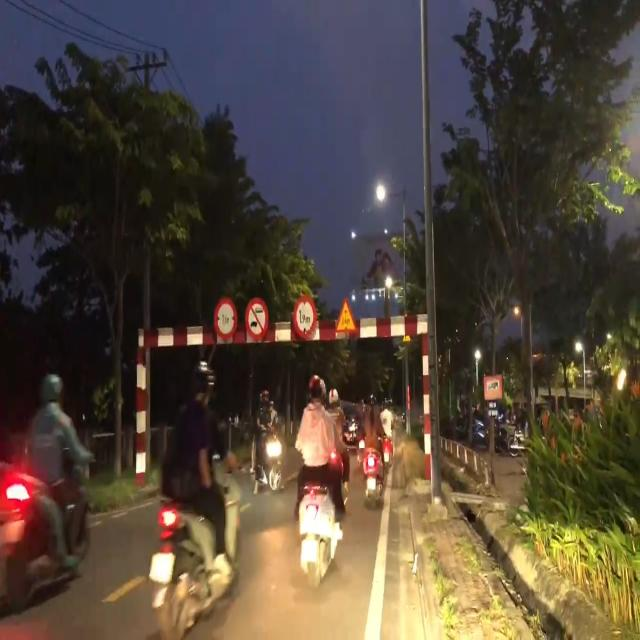Bien bao cam xe oto khach va xe oto tai: (244, 290, 268, 342)
Bien bao chieu cao tinh khong thuc te: (336, 291, 358, 339)
Bien bao han che chieu cao: (291, 292, 317, 346)
